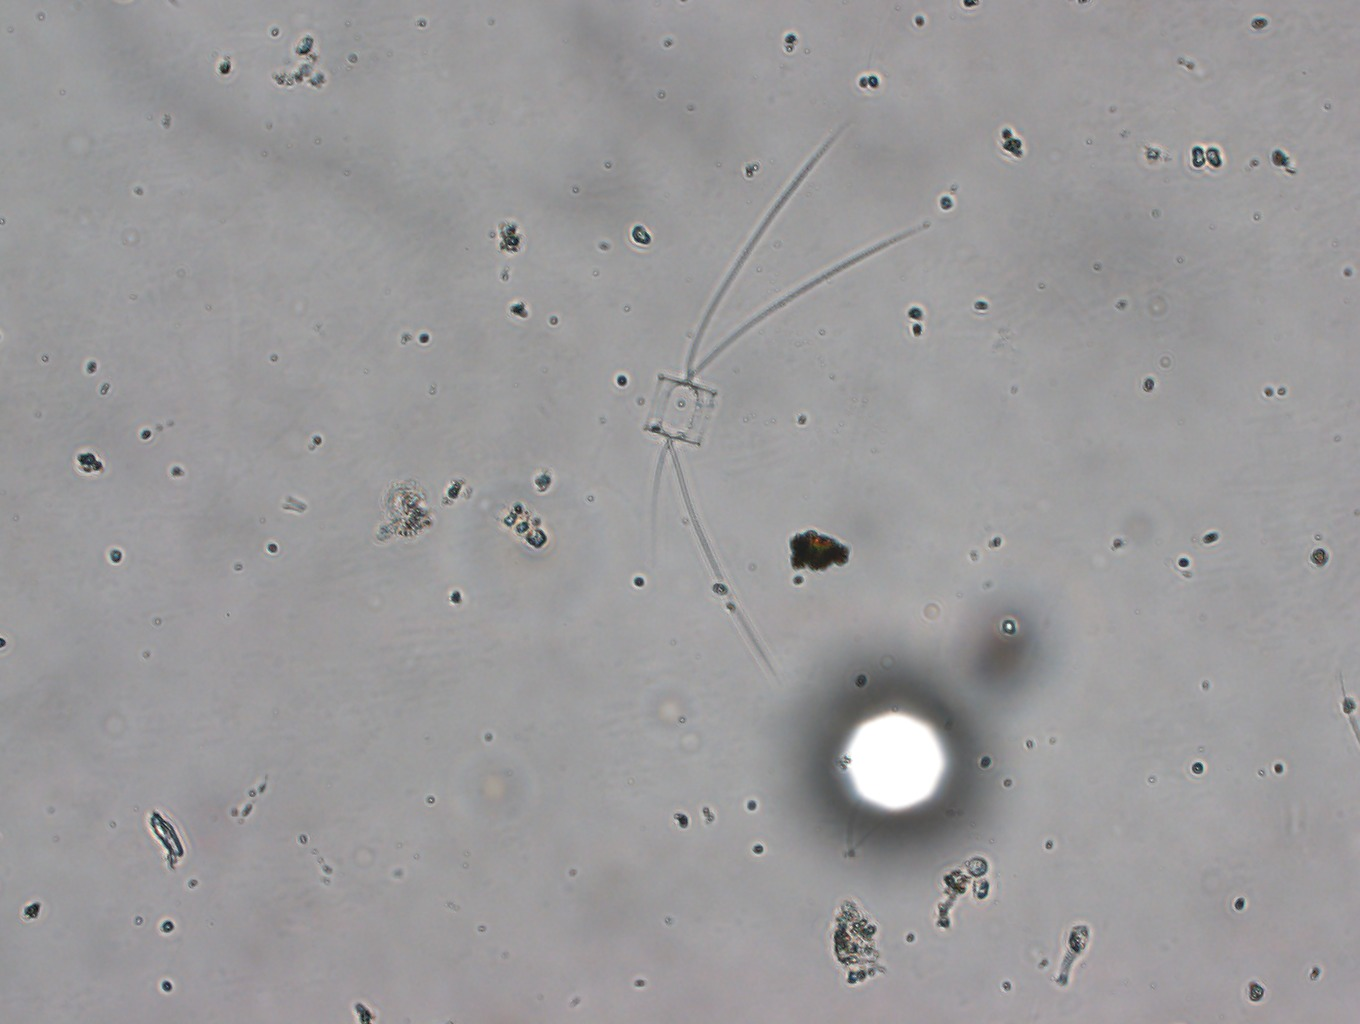chaetoceros: (614, 124, 939, 654)
